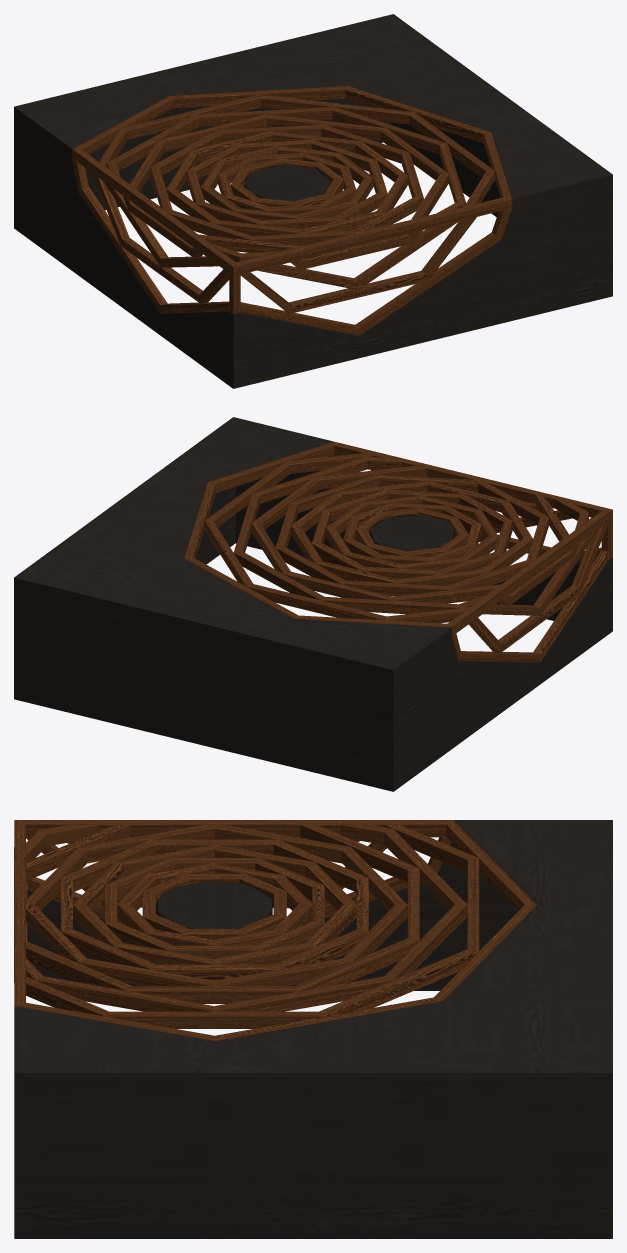
The model's file is modern_coffee_table_02.glb.
The picture shows the model from 3 angles, top to bottom: view 1: azimuth 30°, elevation 25°; view 2: azimuth 150°, elevation 25°; view 3: azimuth 270°, elevation 25°; orthographic projection. The views are drawn at different scales.
Parts seen in each view (by area): view 1: modern_coffee_table_02; view 2: modern_coffee_table_02; view 3: modern_coffee_table_02.
Boxes of the visible parts, left/top/right/bottom form: modern_coffee_table_02: left=14, top=14, right=612, bottom=388; modern_coffee_table_02: left=14, top=417, right=612, bottom=791; modern_coffee_table_02: left=14, top=820, right=612, bottom=1238.
Bounding box in the file's own units: 1.2 × 0.3692 × 1.2.
Materials: 2 (2 with a texture image).
